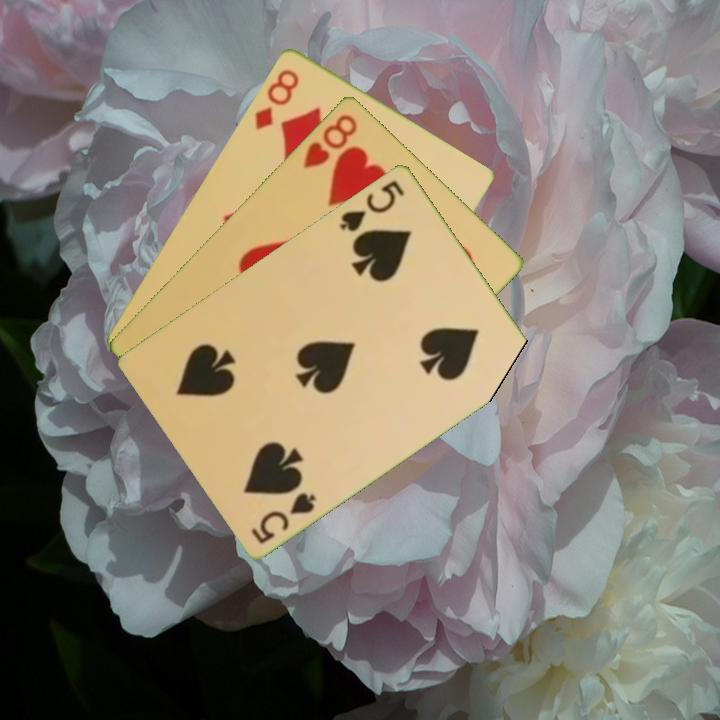5s: (247, 488, 319, 547), (336, 176, 408, 234)
8d: (251, 64, 302, 133)
8h: (299, 110, 360, 171)
